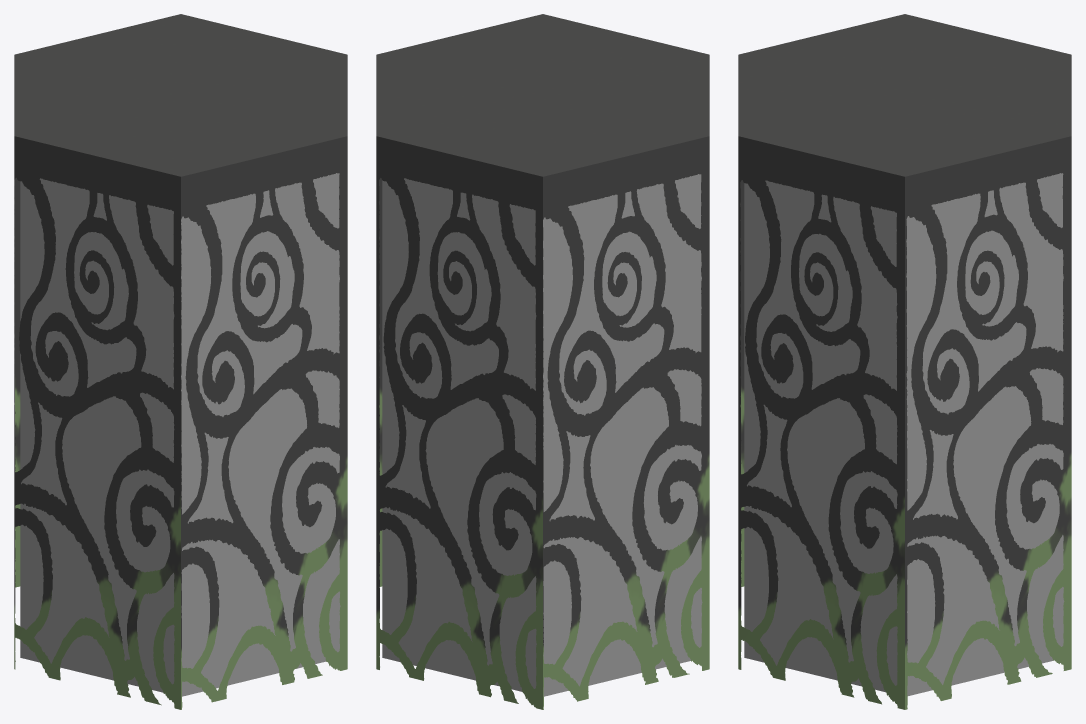
Rendered from Ancient_Piston.fbx.
3 renders of one model, left to right at view 1: azimuth 30°, elevation 25°; view 2: azimuth 150°, elevation 25°; view 3: azimuth 270°, elevation 25°, orthographic.
Parts seen in each view (by area): view 1: AncientPistonMesh, AncientPistonLight; view 2: AncientPistonMesh, AncientPistonLight; view 3: AncientPistonMesh, AncientPistonLight.
Boxes of the visible parts, x1,y1,x2,y2 form: AncientPistonMesh: (14,14,347,709); AncientPistonLight: (20,173,340,696); AncientPistonMesh: (376,14,709,709); AncientPistonLight: (382,174,702,696); AncientPistonMesh: (738,14,1071,709); AncientPistonLight: (744,173,1064,695).
Size of the model in its own units: 2.86 by 4.37 by 2.48.
